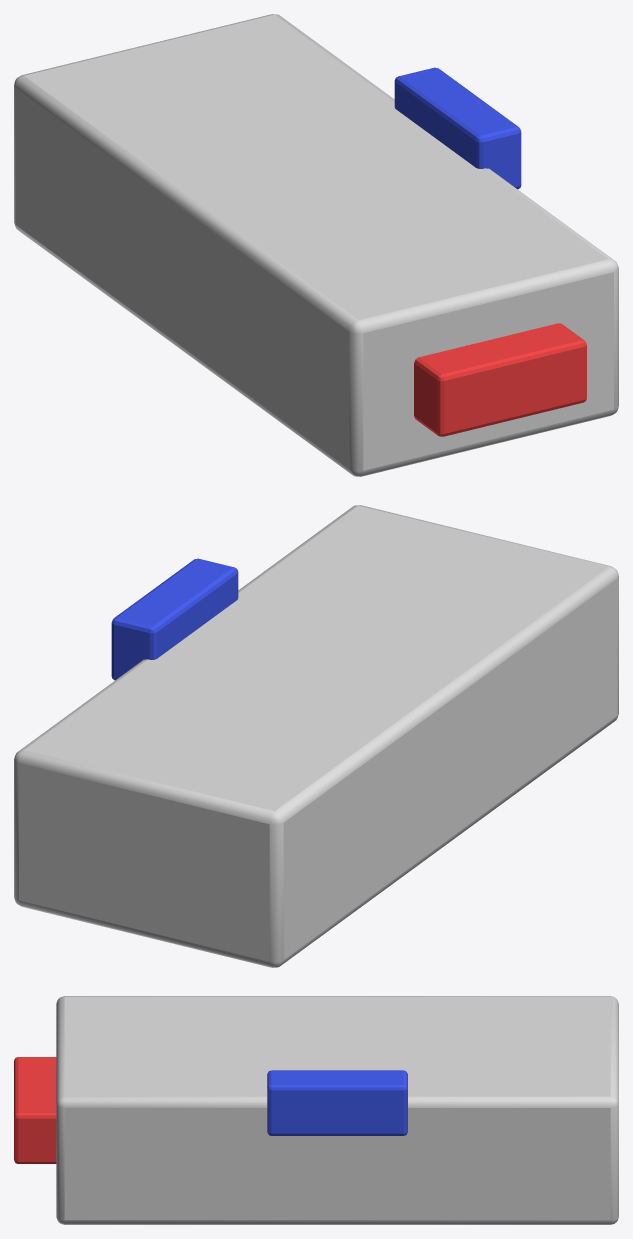
File: orient.glb
3 views of the same model, one above another, from view 1: azimuth 30°, elevation 25°; view 2: azimuth 150°, elevation 25°; view 3: azimuth 270°, elevation 25° (orthographic). The views are drawn at different scales.
Visible parts, largest first — view 1: body, nose, left_mark; view 2: body, left_mark; view 3: body, left_mark, nose.
Boxes of the visible parts, box(x1,y1,x2,y2) form: body: box(14, 14, 618, 476); nose: box(414, 323, 586, 436); left_mark: box(394, 67, 521, 189); body: box(14, 505, 618, 967); left_mark: box(111, 558, 238, 680); body: box(56, 996, 618, 1224); left_mark: box(267, 1070, 407, 1135); nose: box(14, 1057, 56, 1163).
Size of the model in its own units: 2 by 1.2 by 4.3.
